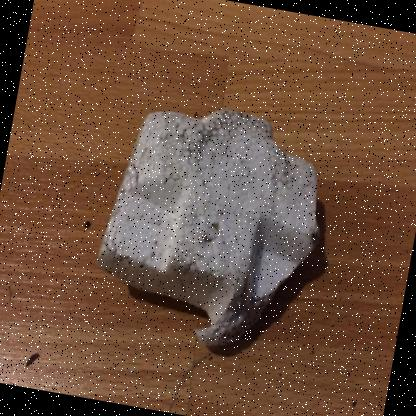Styrofoam piece: (97, 109, 319, 346)
